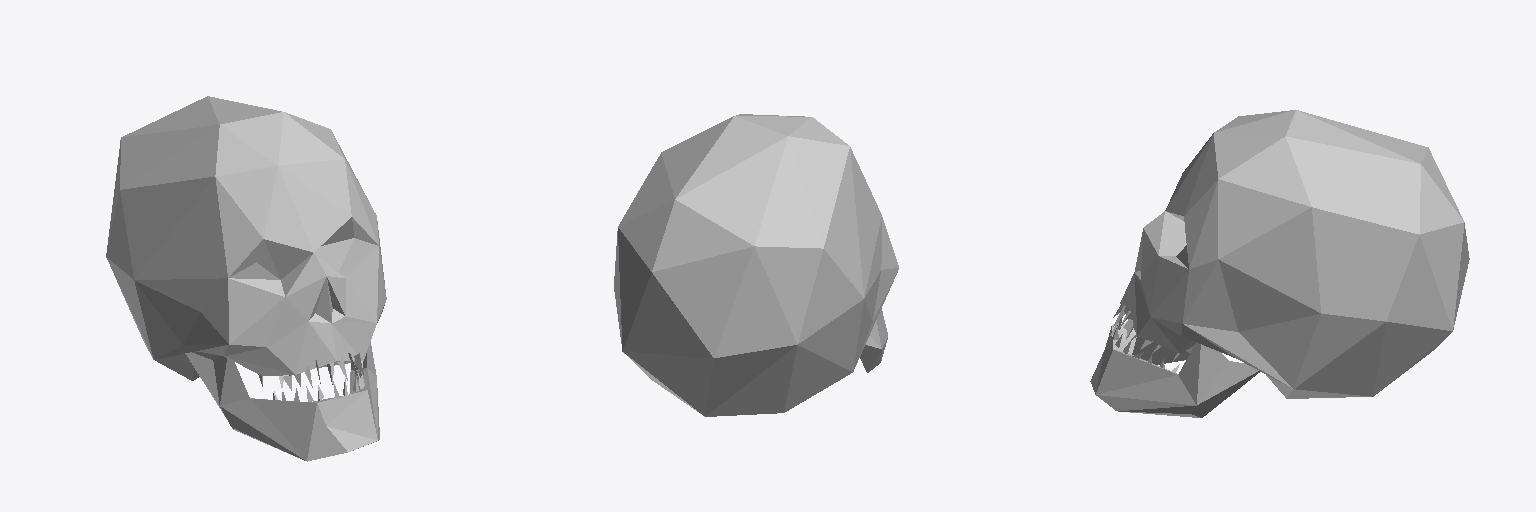
The model's file is skull_1_001.obj.
3 renders of one model, left to right at view 1: azimuth 30°, elevation 25°; view 2: azimuth 150°, elevation 25°; view 3: azimuth 270°, elevation 25°, orthographic.
Visible parts, largest first — view 1: Skull; view 2: Skull; view 3: Skull.
Part boxes in pixels (bbox=[...]): Skull: bbox=[106, 96, 386, 461]; Skull: bbox=[614, 114, 898, 416]; Skull: bbox=[1090, 110, 1469, 417].
Size of the model in its own units: 0.4894 by 0.5774 by 0.7371.